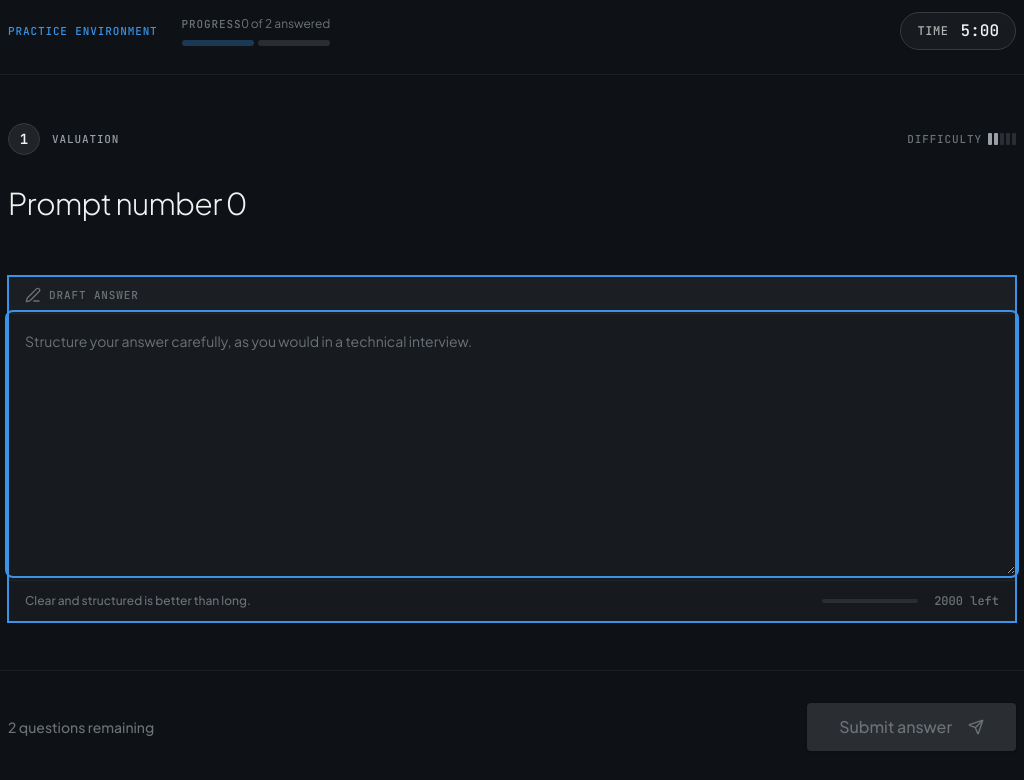
PracticeRunner › reveals the grade after submitting, unlike the diagnostic
Replace the text in the text box labelled "your answer" with "Subtract net debt from enterprise value and add back cash equivalents.": [512, 444] box 9,314 -> 1015,574
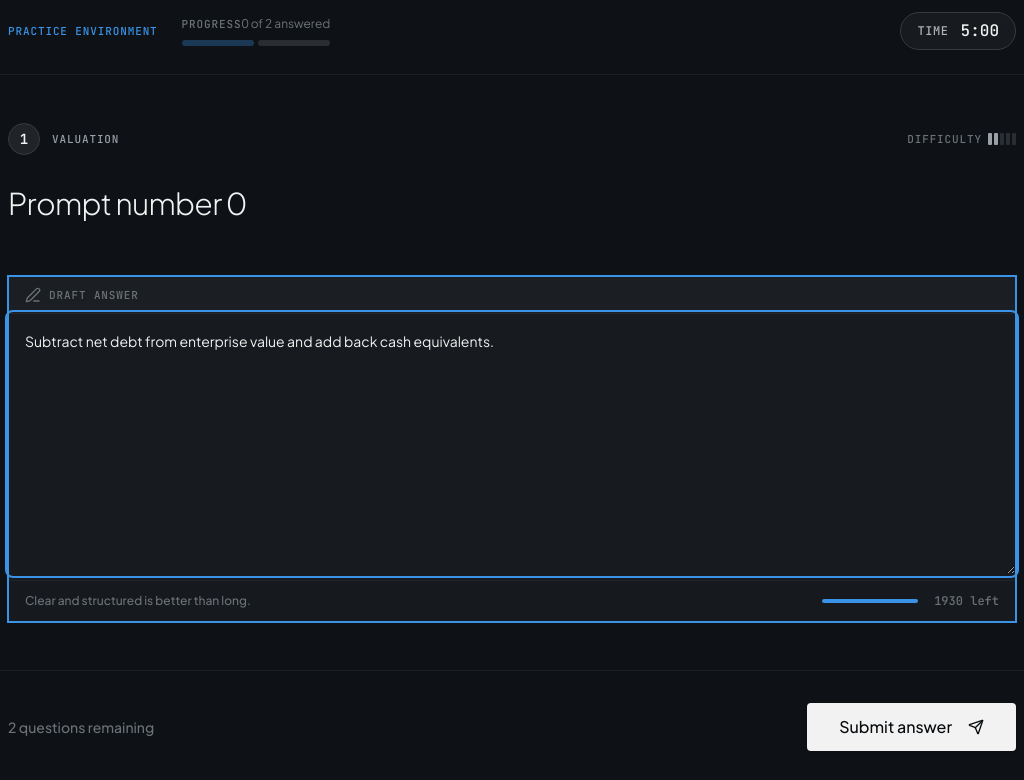
Click the button "Submit answer": [912, 727] box 807,703 -> 1016,751
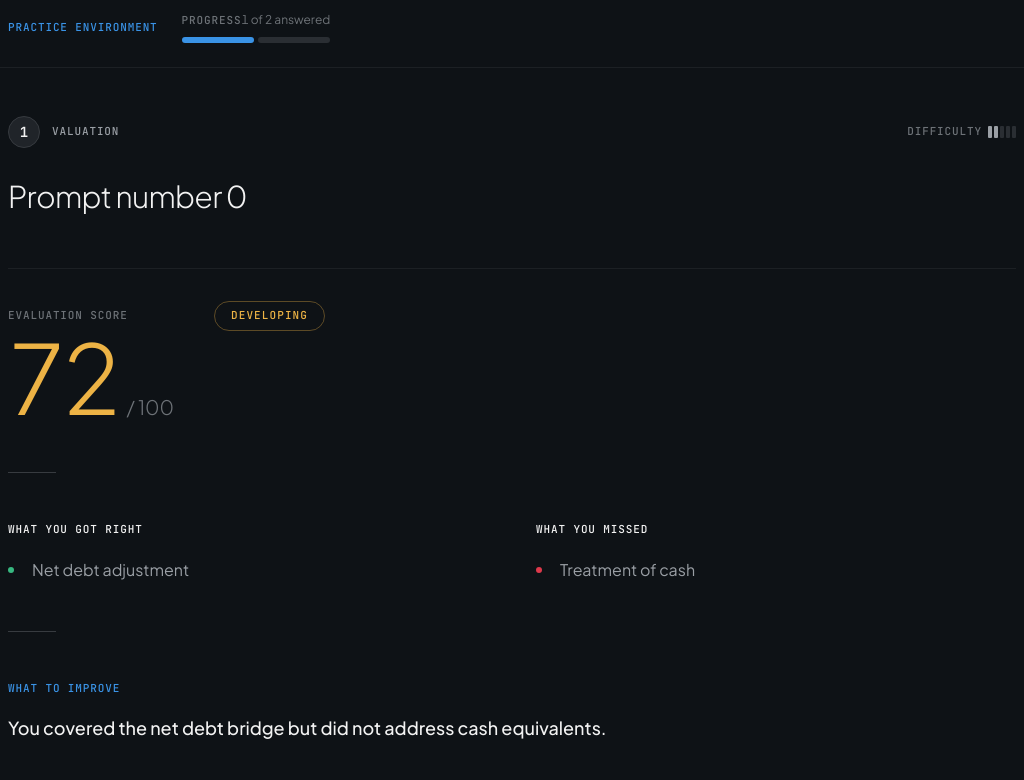
Expected: the text "72" is shown, 8,328 -> 118,424
Expected: the text "Developing" is shown, 214,301 -> 325,331
